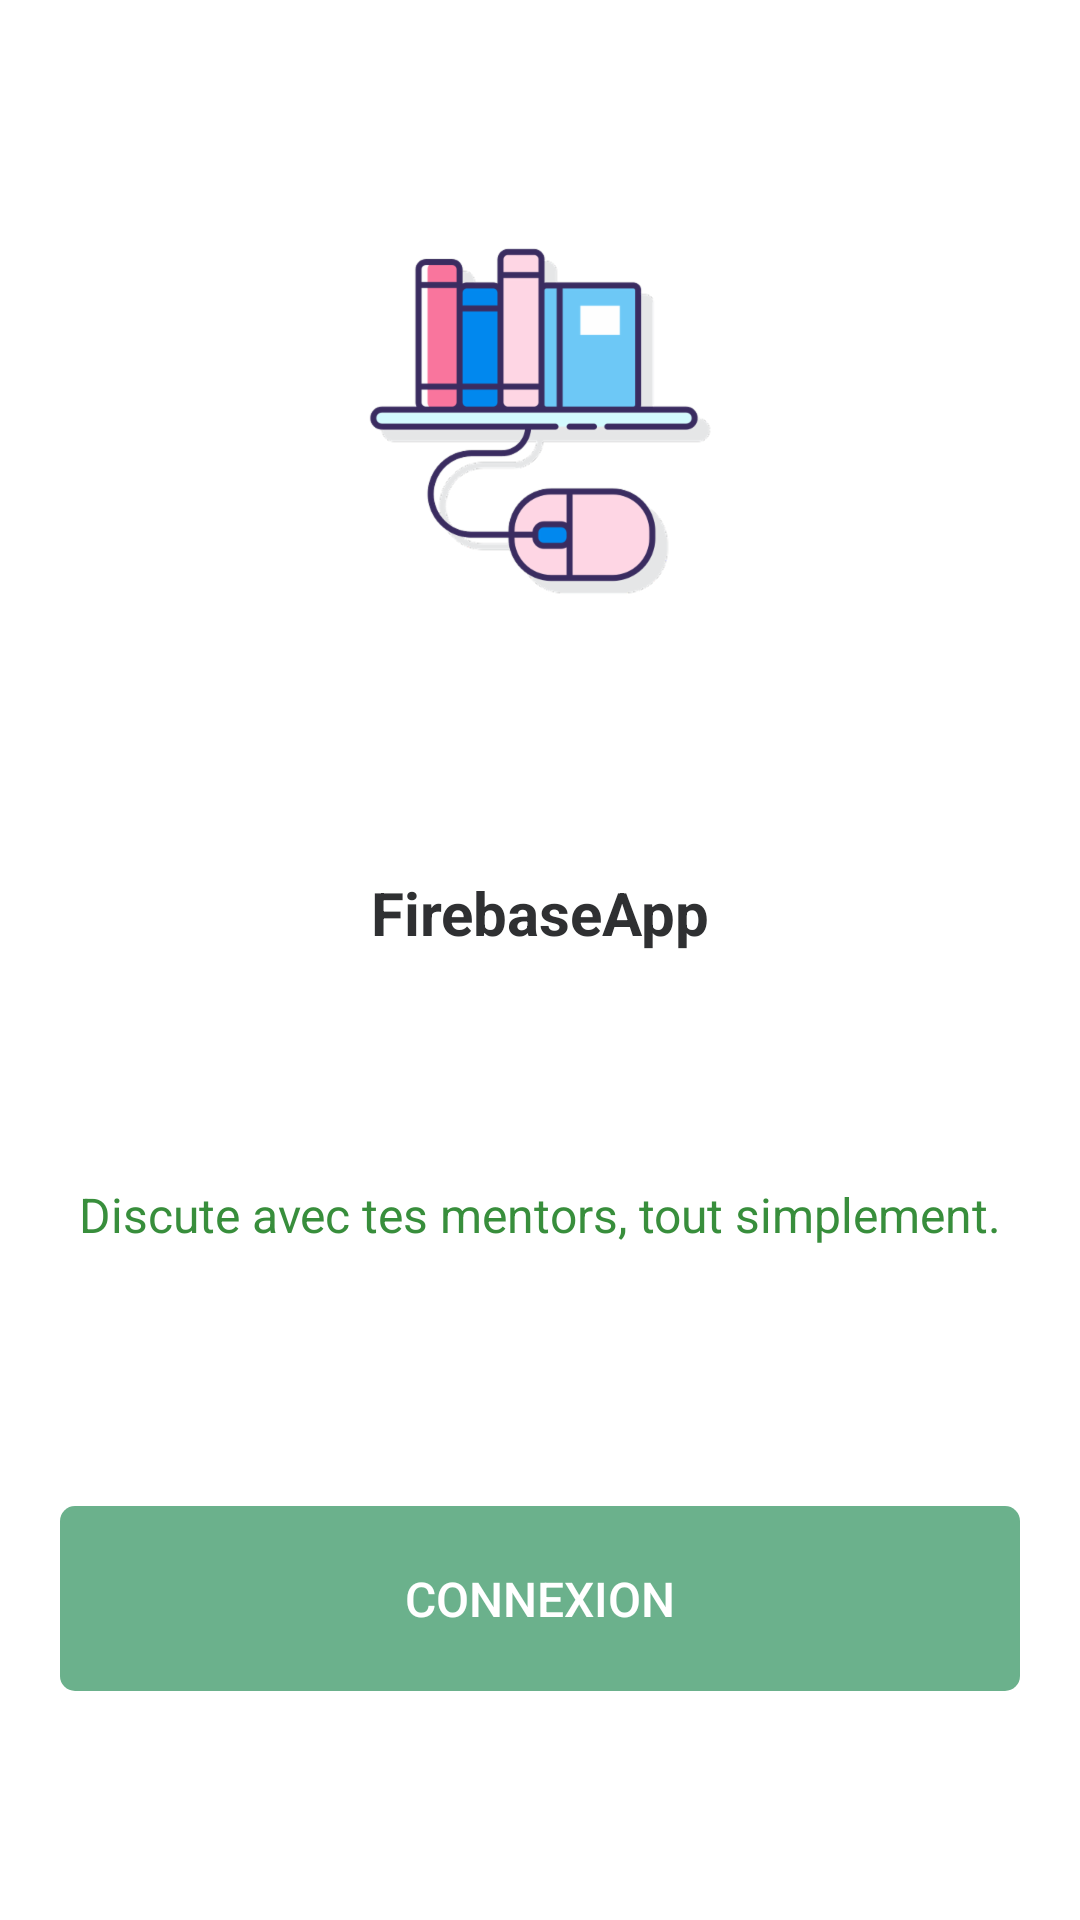

Icon bounding boxes for this 1080x1920 phone screenshot, format {"left": x1, "top": y1, "right": x2, "bottom": y2}:
digital library: {"left": 370, "top": 248, "right": 709, "bottom": 593}
